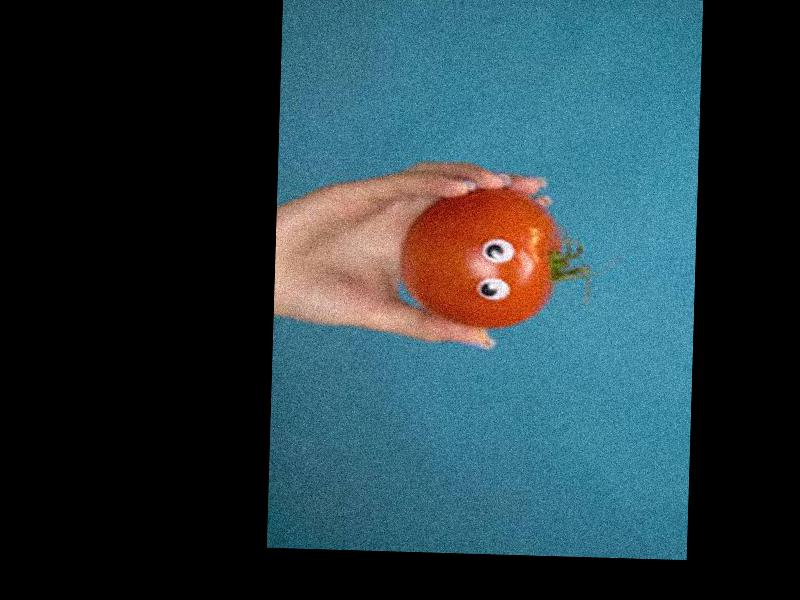Tomato: (398, 184, 564, 331)
